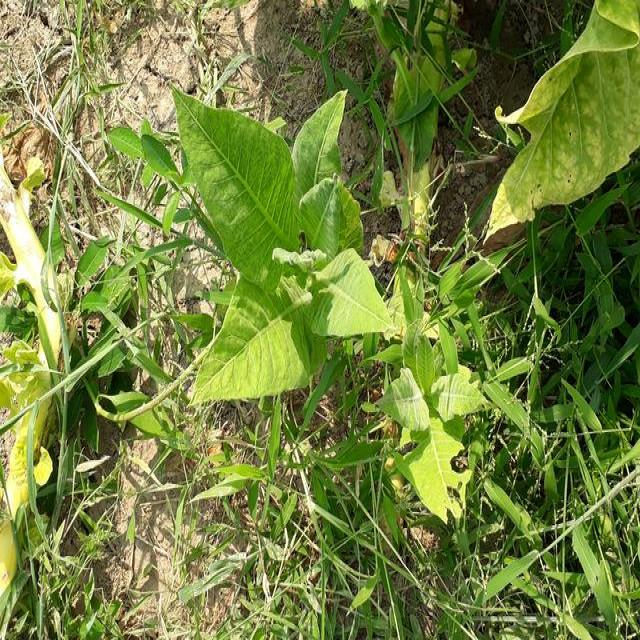crop: (177, 92, 387, 402), (498, 8, 640, 228)
